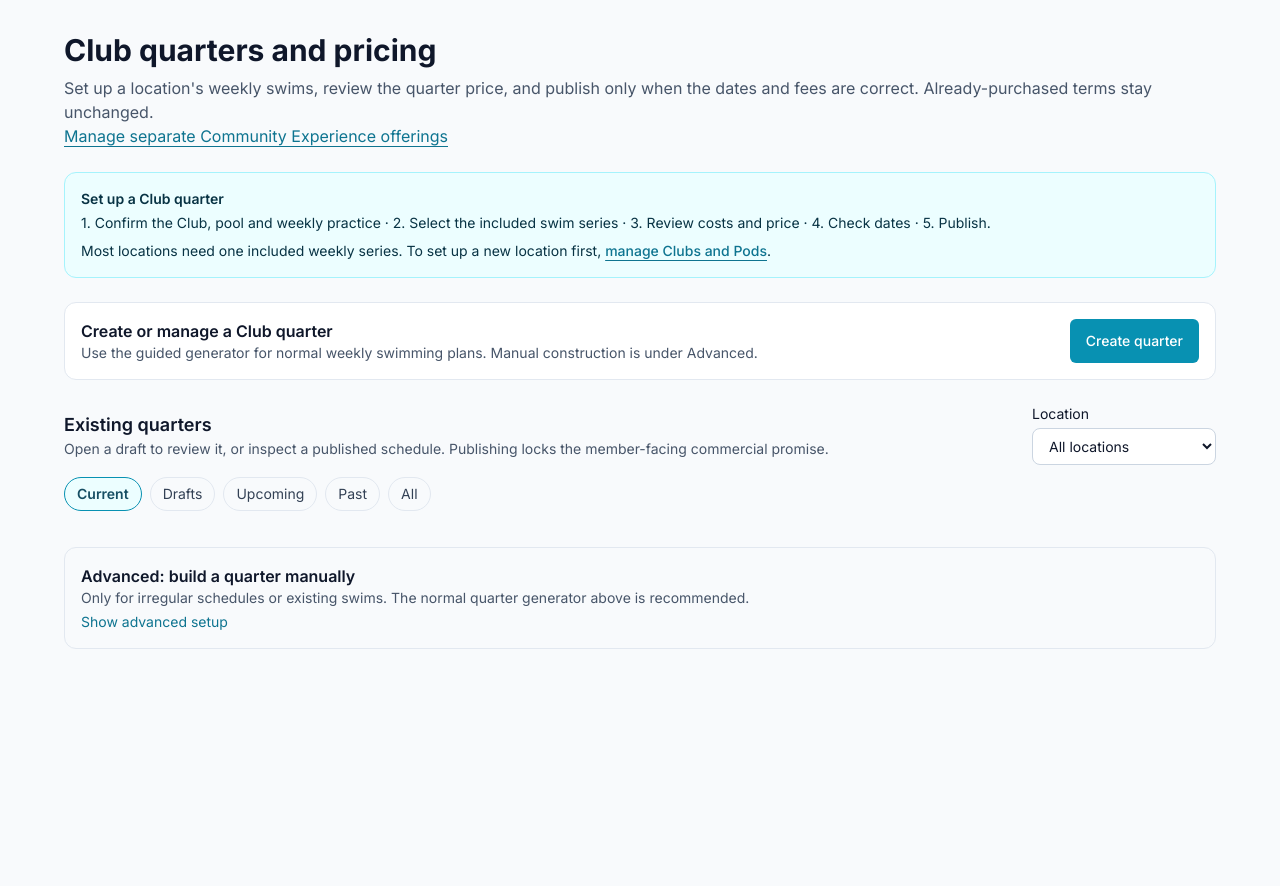
it: Admin actual-session quarter drafts › populates an existing empty draft and opens that same draft for review
Click the button "Create quarter" at (1134, 341), box 1070,319 -> 1199,363
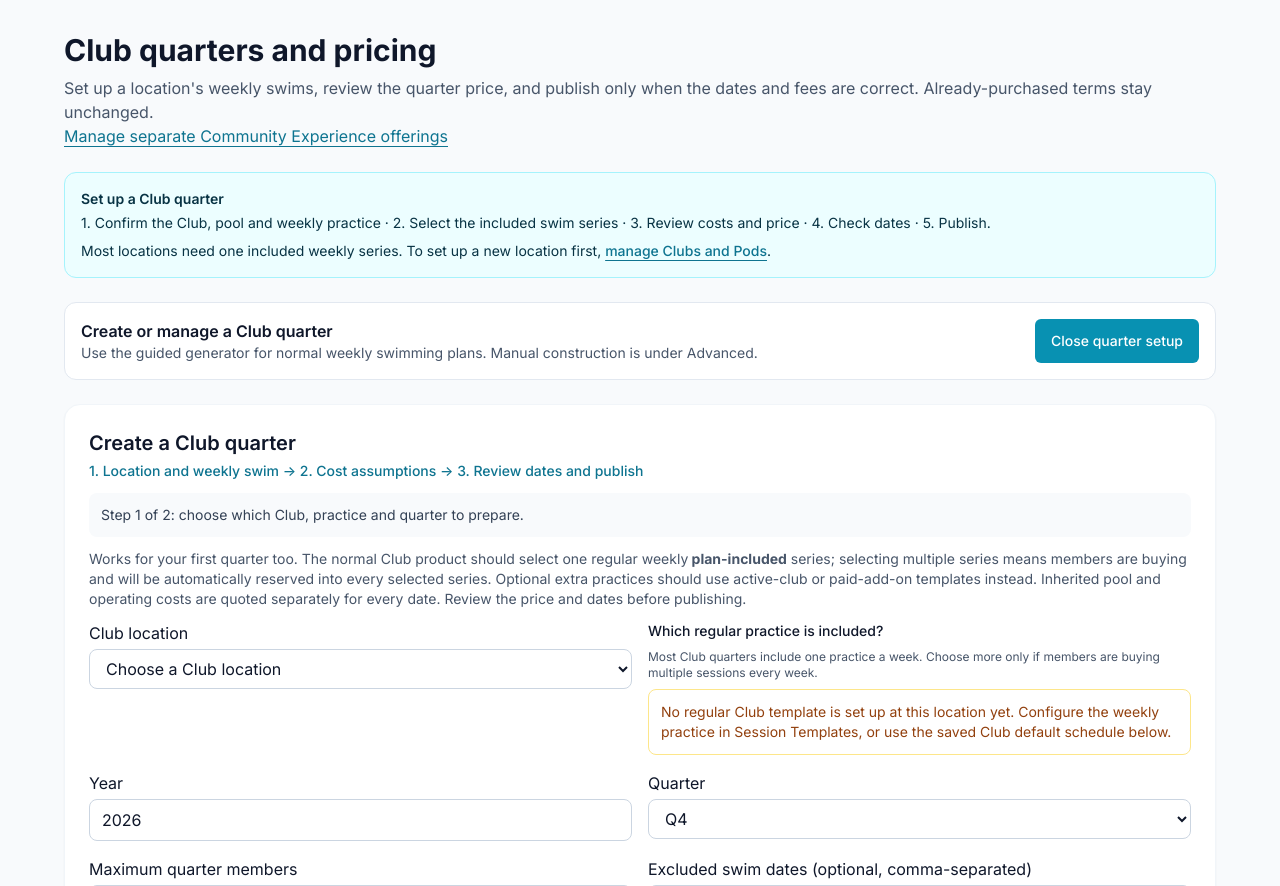
Select "Yaba Club" in the dropdown labelled "Club location" at (360, 669), box 89,649 -> 632,689
Select "Q4" in the dropdown labelled "Quarter" at (920, 819), box 648,799 -> 1191,839
(page scrolled)
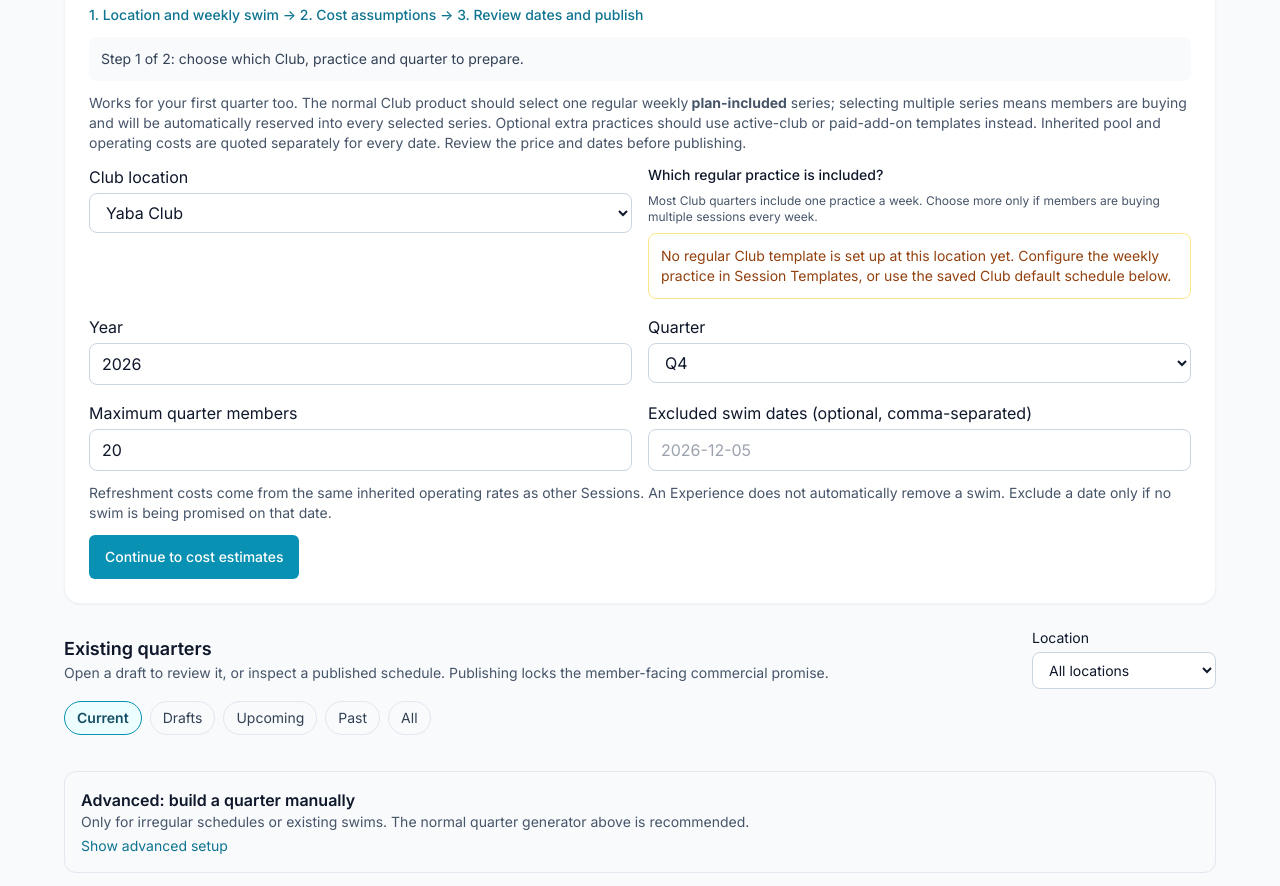
Replace the text in the number field labelled "Maximum quarter members" with "15" at (360, 450), box 89,429 -> 632,471
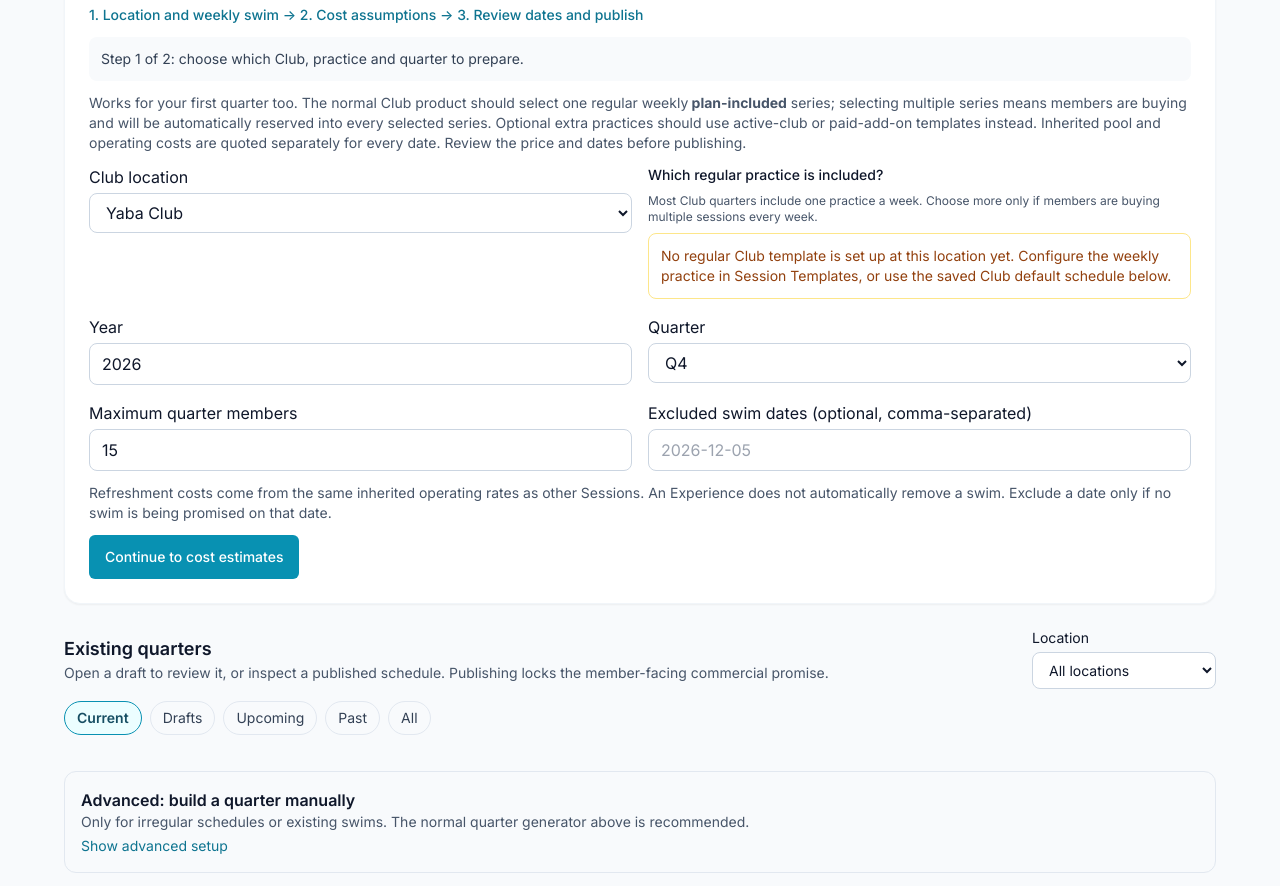
Click the button "Continue to cost estimates" at (194, 557), box 89,535 -> 300,579
(page scrolled)
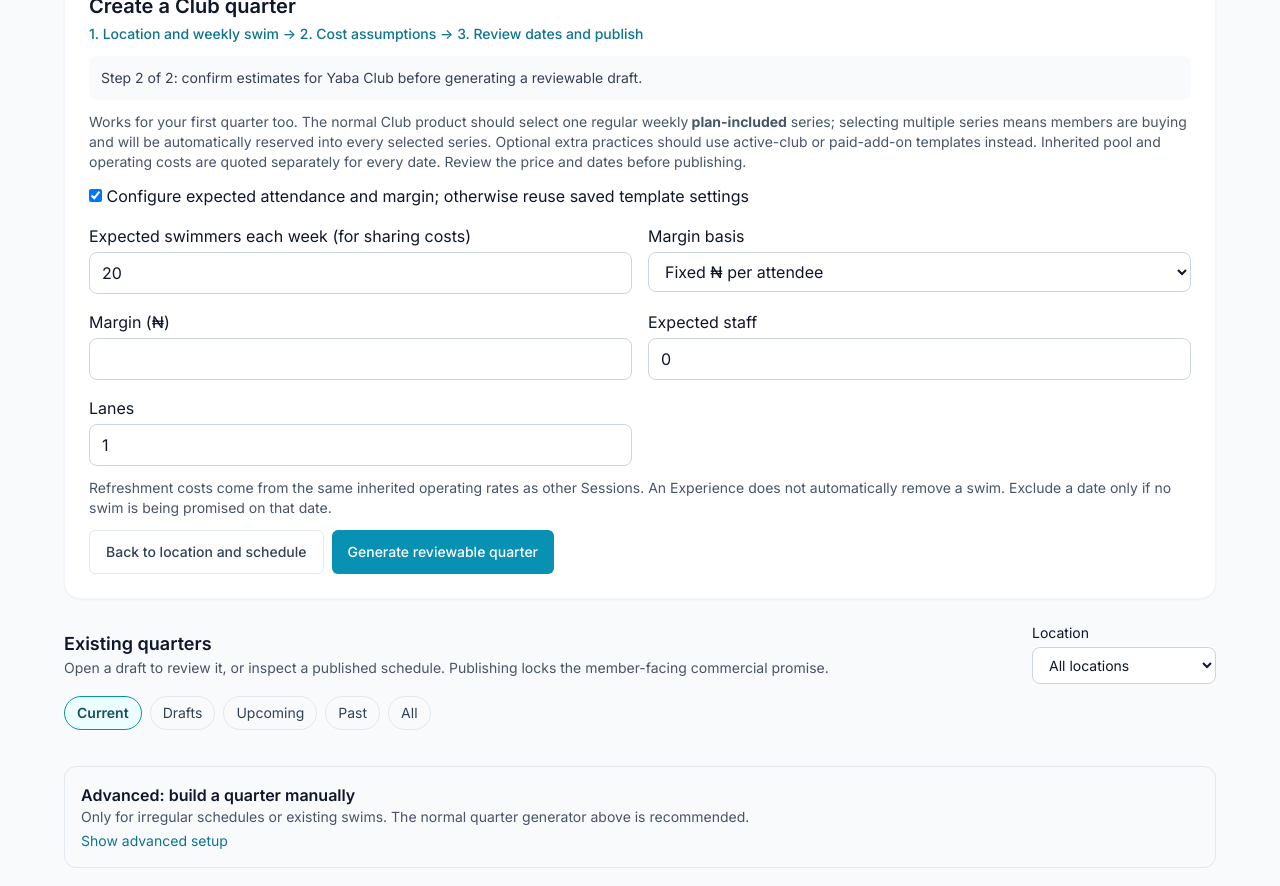
Type "1500" into the number field labelled "Margin (₦)" at (360, 359), box 89,338 -> 632,380
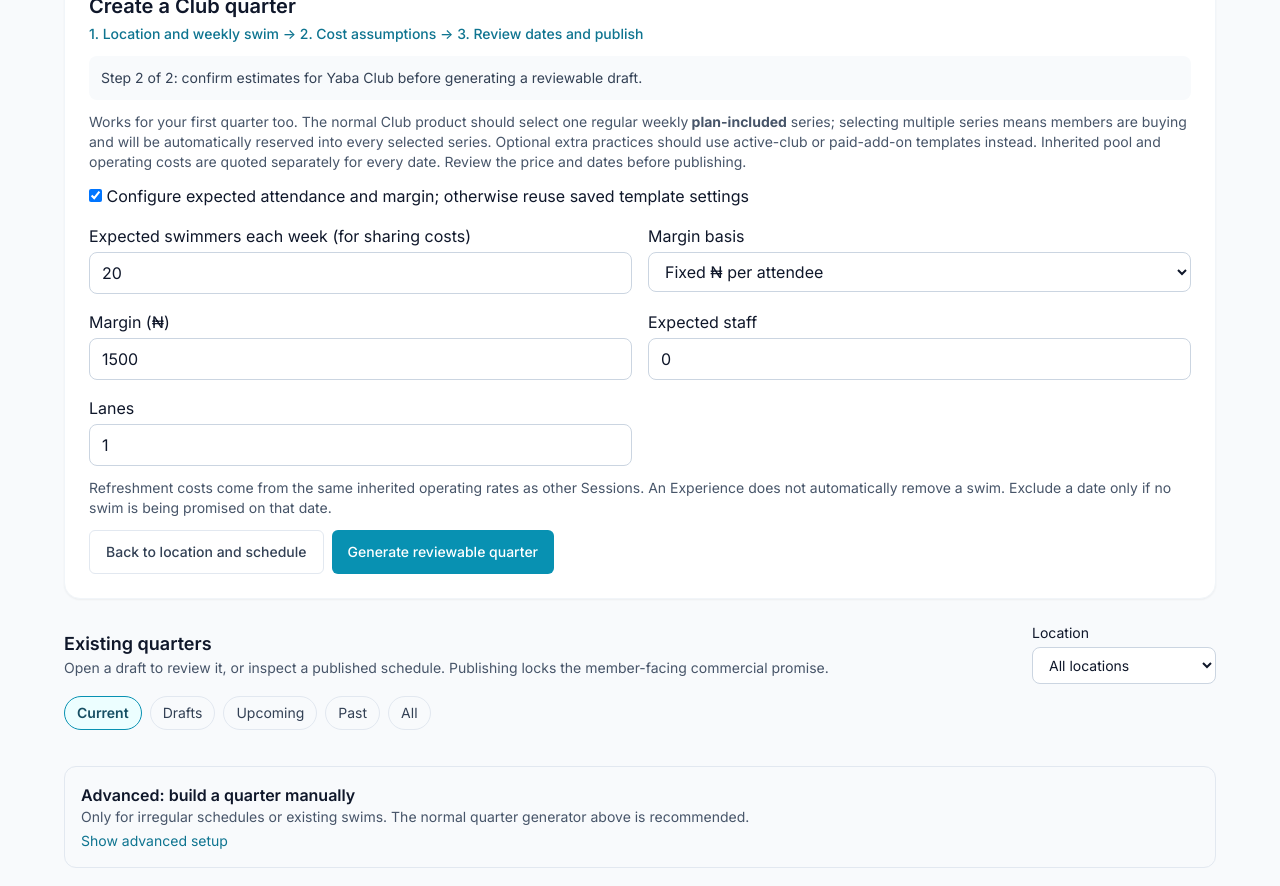
Click the button "Generate reviewable quarter" at (443, 552), box 332,530 -> 554,574
(page scrolled)
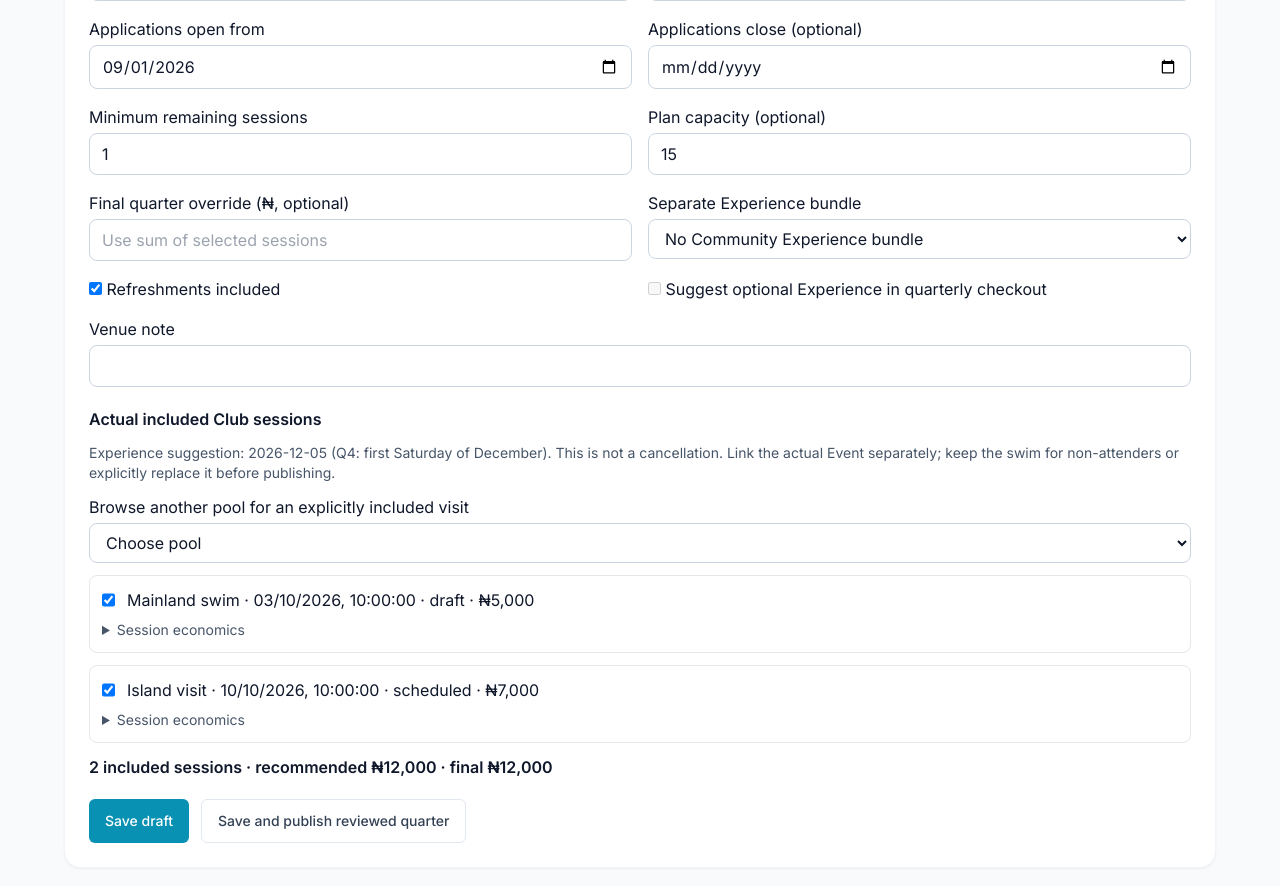
Check: the checkbox labelled "Mainland swim · 03/10/2026, 10:00:00 · draft · ₦5,000" is checked, box 102,588 -> 115,612
Check: the text "2 included sessions · recommended ₦12,000 · final ₦12,000" is shown, box 89,757 -> 553,777
Check: the number field labelled "Plan capacity (optional)" holds "15", box 648,133 -> 1191,175
